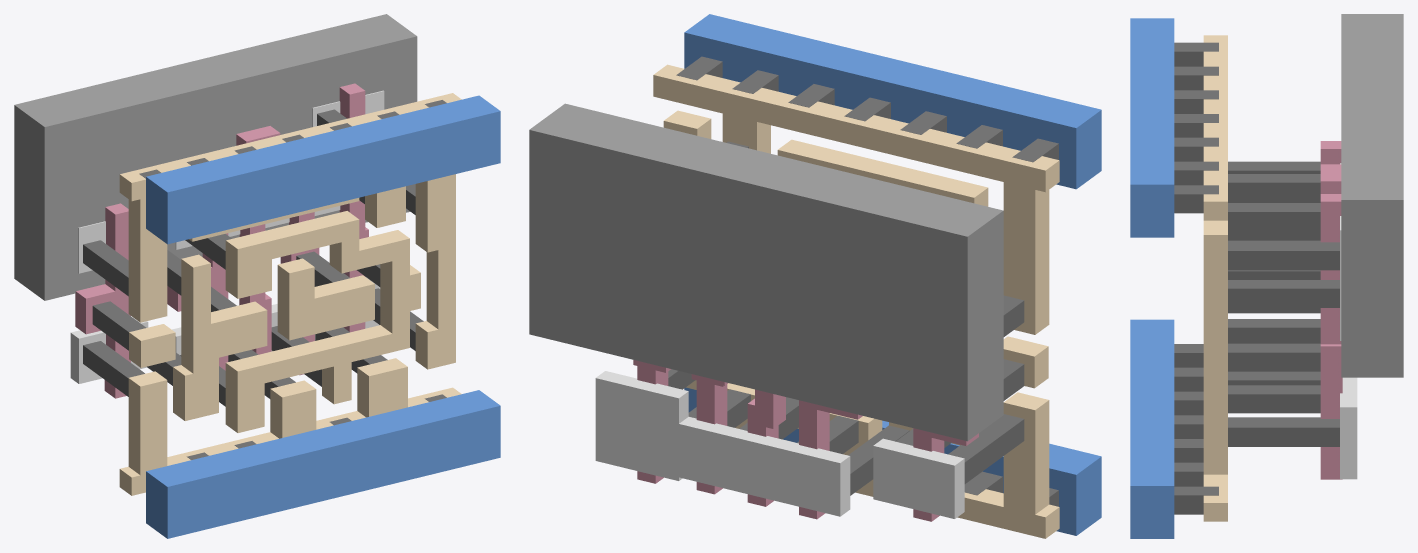
The model's file is sky130_fd_sc_hd__or3b_1.gds.gltf.
3 renders of one model, left to right at view 1: azimuth 30°, elevation 25°; view 2: azimuth 150°, elevation 25°; view 3: azimuth 270°, elevation 25°, orthographic. The views are drawn at different scales.
Parts seen in each view (by area): view 1: sky130_fd_sc_hd__or3b_1_li1, sky130_fd_sc_hd__or3b_1_met1, sky130_fd_sc_hd__or3b_1_nwell, sky130_fd_sc_hd__or3b_1_licon, sky130_fd_sc_hd__or3b_1_poly, sky130_fd_sc_hd__or3b_1_diff, sky130_fd_sc_hd__or3b_1_mcon; view 2: sky130_fd_sc_hd__or3b_1_nwell, sky130_fd_sc_hd__or3b_1_li1, sky130_fd_sc_hd__or3b_1_met1, sky130_fd_sc_hd__or3b_1_diff, sky130_fd_sc_hd__or3b_1_licon, sky130_fd_sc_hd__or3b_1_poly, sky130_fd_sc_hd__or3b_1_mcon; view 3: sky130_fd_sc_hd__or3b_1_licon, sky130_fd_sc_hd__or3b_1_nwell, sky130_fd_sc_hd__or3b_1_met1, sky130_fd_sc_hd__or3b_1_mcon, sky130_fd_sc_hd__or3b_1_li1, sky130_fd_sc_hd__or3b_1_poly, sky130_fd_sc_hd__or3b_1_diff.
Part boxes in pixels (x1,y1,x2,y2): sky130_fd_sc_hd__or3b_1_li1: (119, 93, 461, 495); sky130_fd_sc_hd__or3b_1_met1: (146, 95, 500, 538); sky130_fd_sc_hd__or3b_1_nwell: (14, 14, 417, 300); sky130_fd_sc_hd__or3b_1_licon: (83, 109, 423, 406); sky130_fd_sc_hd__or3b_1_poly: (75, 83, 368, 398); sky130_fd_sc_hd__or3b_1_diff: (70, 90, 384, 383); sky130_fd_sc_hd__or3b_1_mcon: (139, 100, 446, 459); sky130_fd_sc_hd__or3b_1_nwell: (529, 103, 1003, 441); sky130_fd_sc_hd__or3b_1_li1: (653, 64, 1059, 538); sky130_fd_sc_hd__or3b_1_met1: (684, 14, 1101, 535); sky130_fd_sc_hd__or3b_1_diff: (595, 371, 964, 518); sky130_fd_sc_hd__or3b_1_licon: (668, 141, 1024, 495); sky130_fd_sc_hd__or3b_1_poly: (633, 360, 978, 521); sky130_fd_sc_hd__or3b_1_mcon: (676, 56, 1058, 506); sky130_fd_sc_hd__or3b_1_licon: (1228, 161, 1339, 446); sky130_fd_sc_hd__or3b_1_nwell: (1341, 14, 1403, 377); sky130_fd_sc_hd__or3b_1_met1: (1130, 18, 1174, 538); sky130_fd_sc_hd__or3b_1_mcon: (1174, 42, 1218, 514); sky130_fd_sc_hd__or3b_1_li1: (1203, 35, 1227, 521); sky130_fd_sc_hd__or3b_1_poly: (1320, 141, 1342, 479); sky130_fd_sc_hd__or3b_1_diff: (1340, 163, 1357, 479).
Size of the model in its own units: 3.6 by 3.2 by 2.24.
